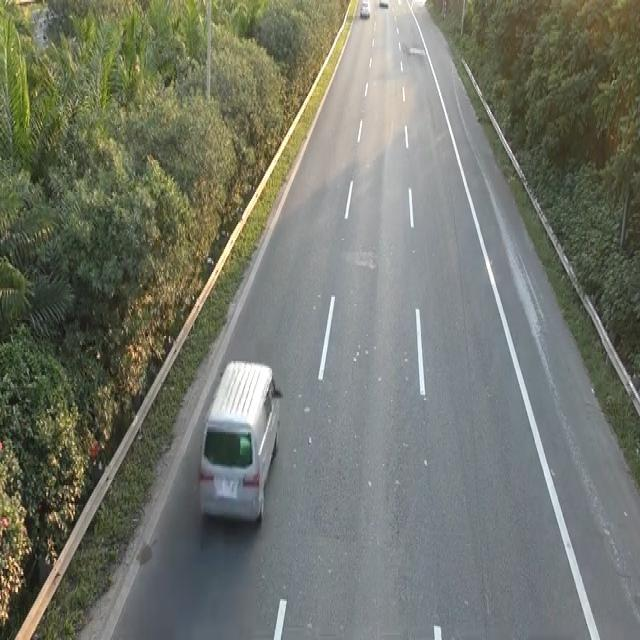lorry: (196, 356, 282, 526)
